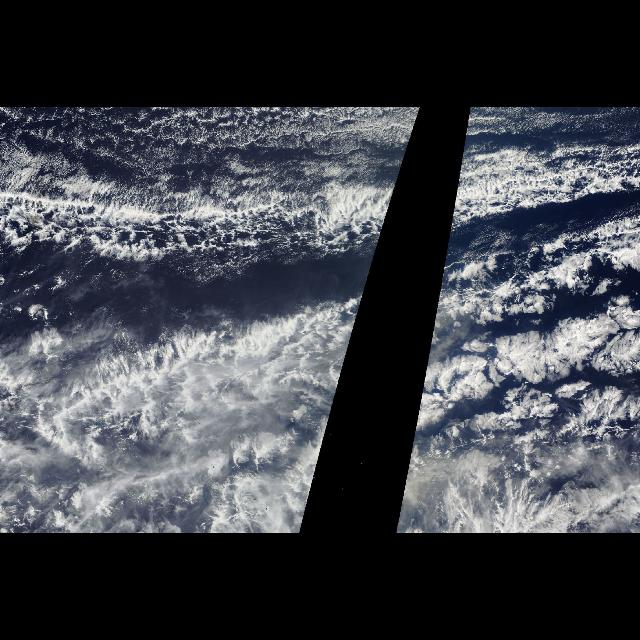Fish: (4, 136, 412, 314), (436, 136, 640, 314)
Gravel: (11, 108, 302, 164)
Sugar: (31, 138, 387, 182)
